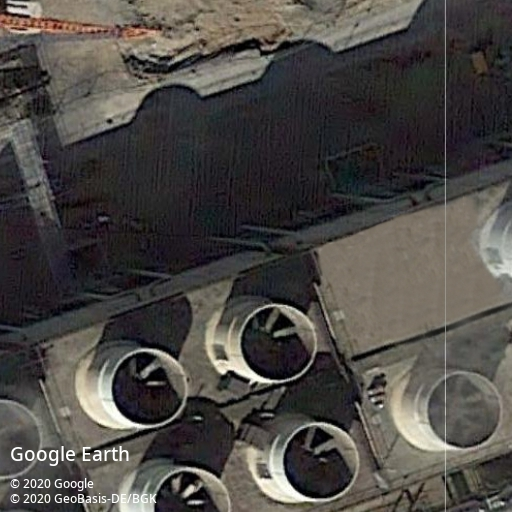Vent: (238, 303, 317, 383), (110, 348, 188, 428), (281, 422, 359, 502), (425, 370, 502, 451)
